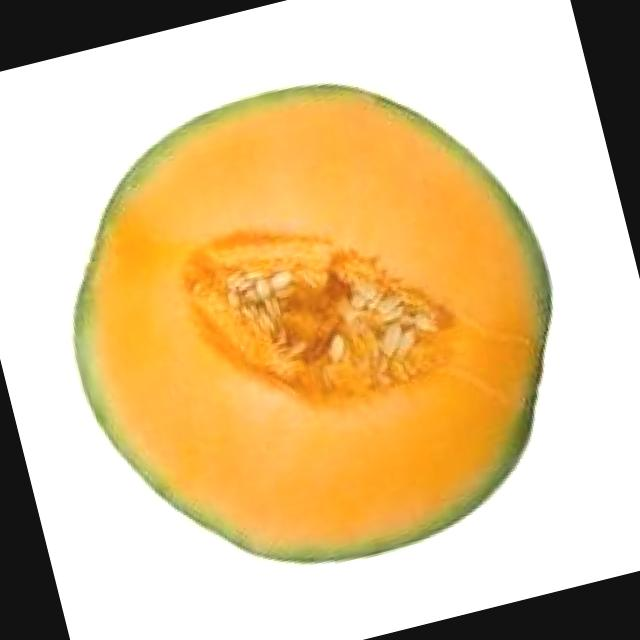cantaloupe: (21, 35, 603, 612)
